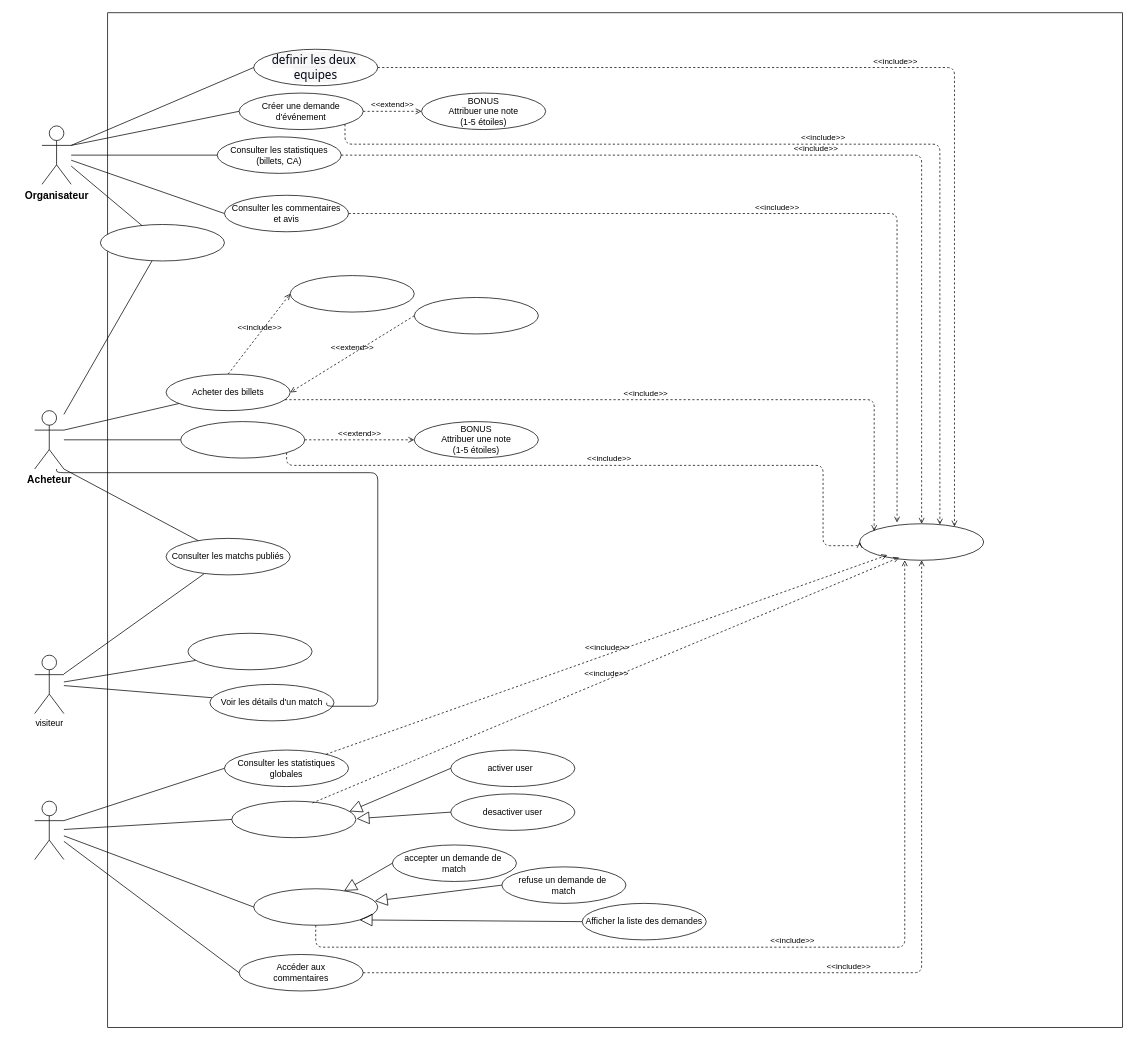
The diagram is 1135 pixels wide and 1040 high, and some of its shapes have lost their labels. The centre of each missing label's shape, as x and y in pixels:
"Administrateur" belongs at (49,830).
"Choisir catégorie et place" belongs at (351,293).
"Générer un ticket PDF" belongs at (476,315).
"Gérer les demandes de matchs" belongs at (315,906).
"Gérer les utilisateurs" belongs at (293,819).
"Gérer son profil" belongs at (162,242).
"Laisser un commentaire et avis" belongs at (242,439).
"S'inscrire" belongs at (249,651).
"Se connecter" belongs at (921,541).
